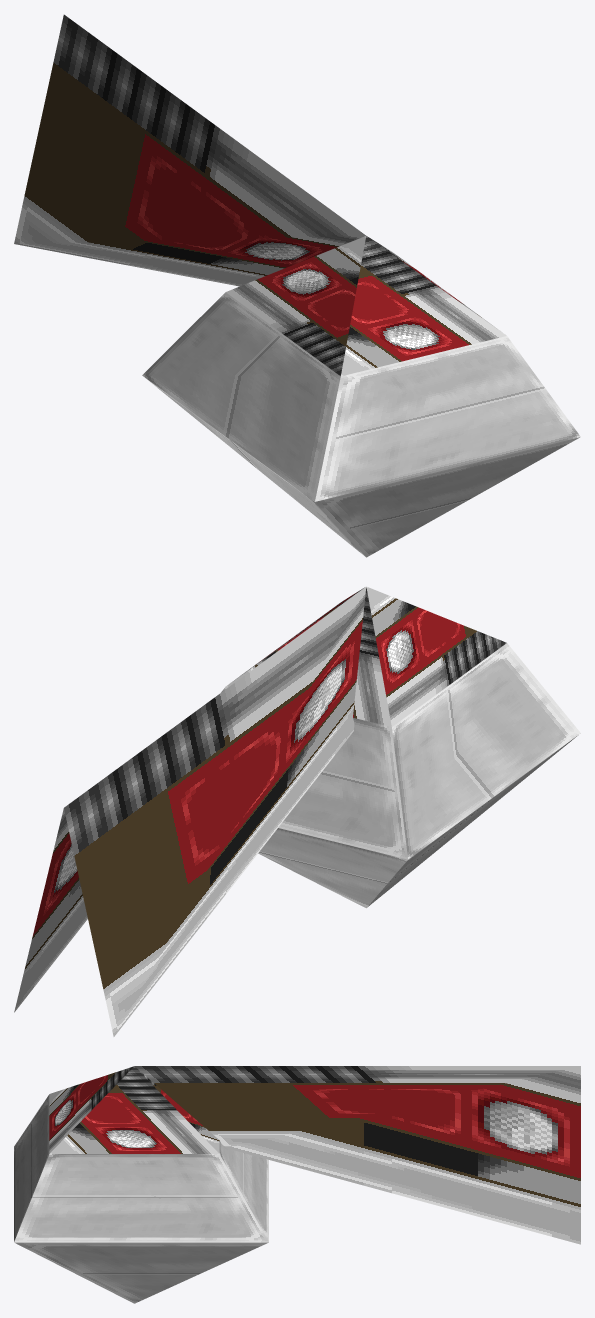
3 views of the same model, one above another, from view 1: azimuth 30°, elevation 25°; view 2: azimuth 150°, elevation 25°; view 3: azimuth 270°, elevation 25° (orthographic). The views are drawn at different scales.
Visible parts, largest first — view 1: prim190-Box01; view 2: prim190-Box01; view 3: prim190-Box01.
Part boxes in pixels (x1,y1,x2,y2): prim190-Box01: (14, 14, 580, 557); prim190-Box01: (14, 586, 580, 1036); prim190-Box01: (14, 1066, 580, 1303).
Bounding box in the file's own units: 32 × 37 × 80.
Materials: 2 (2 with a texture image).
